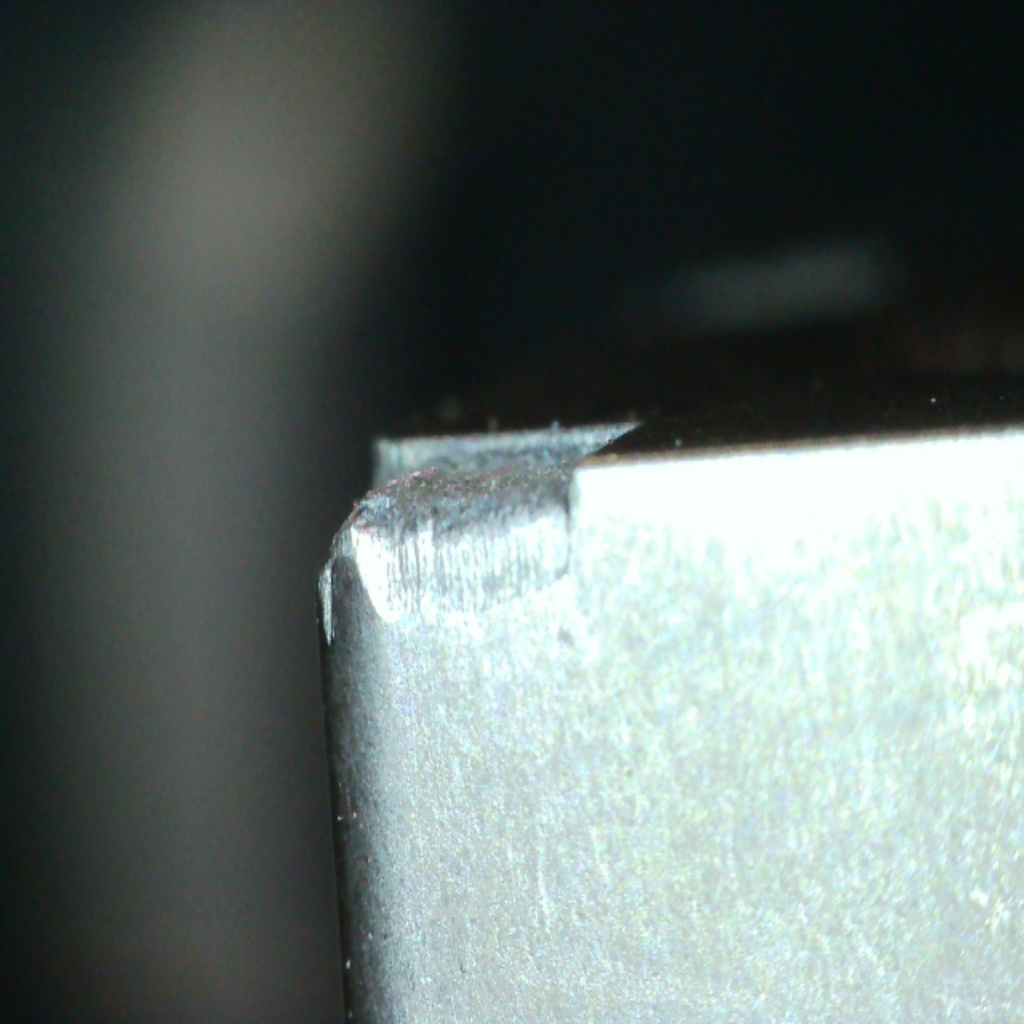flank_wear: (327, 530, 584, 619)
